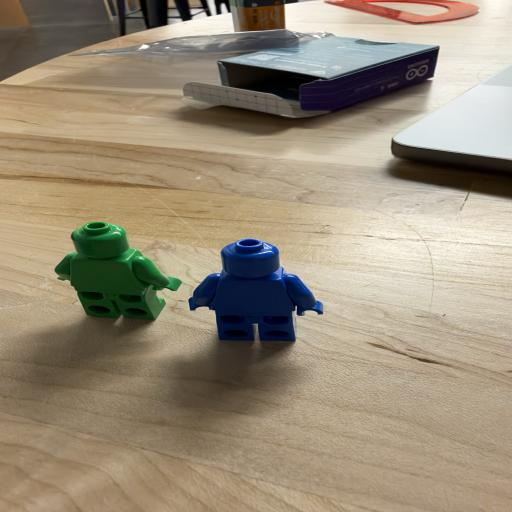blue_minifig: (188, 238, 324, 341)
green_minifig: (54, 221, 183, 320)
